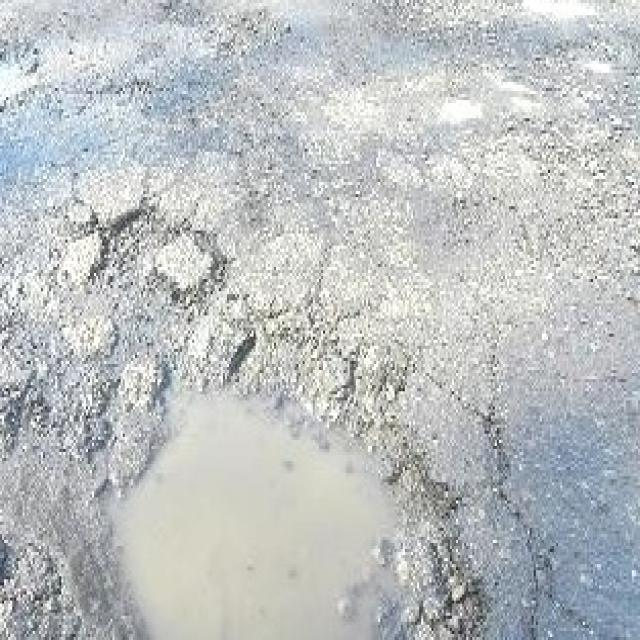road-pothole: (76, 349, 476, 637)
